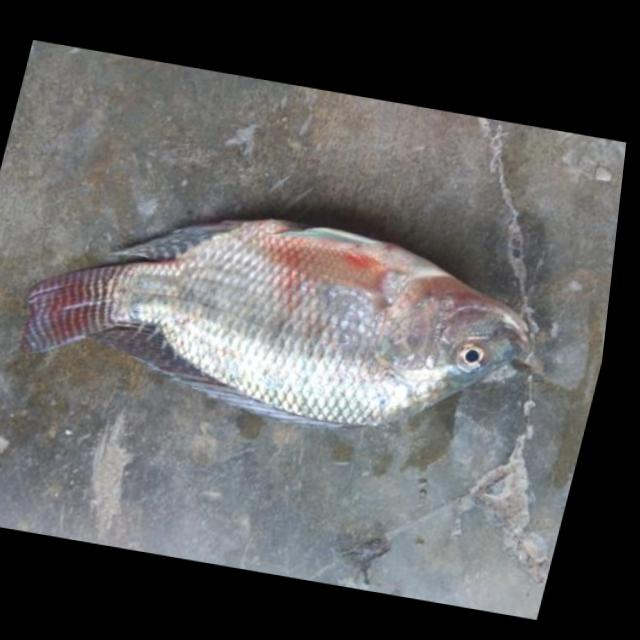Tilapia: (0, 177, 559, 461)
